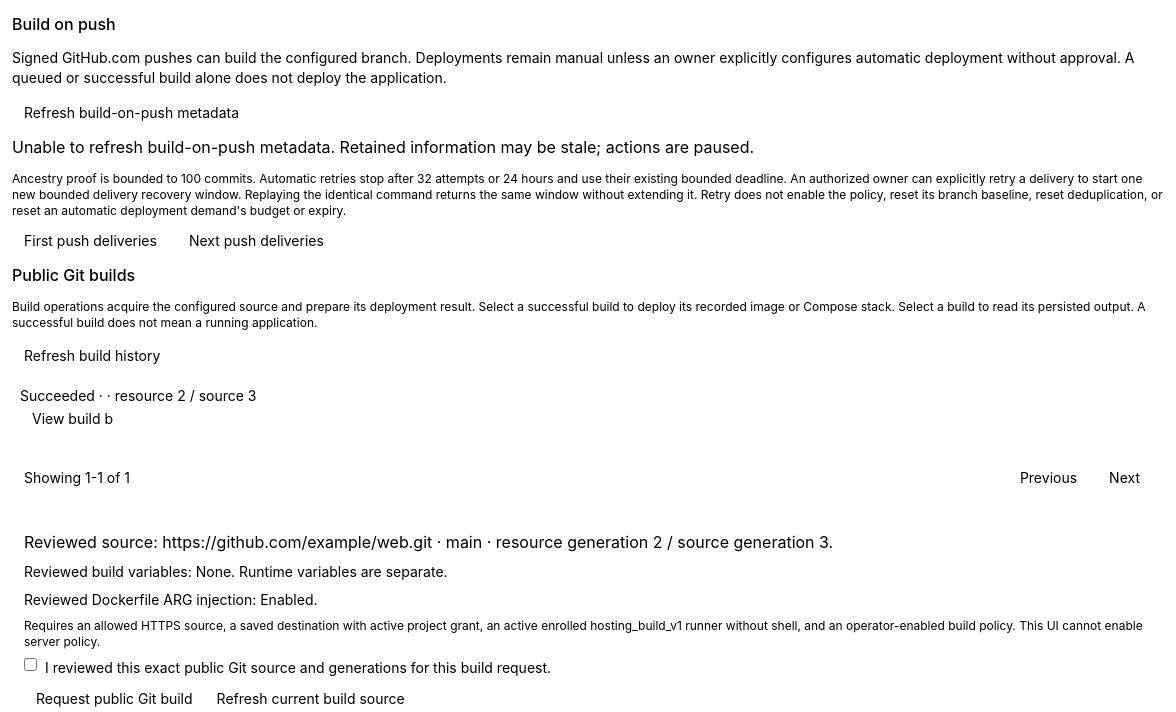
successful exact build submits only server-selected artifact admission inputs and shares operation detail
Click the button "View build b".
click(73, 419)  # box [20,409,125,429]
(page scrolled)
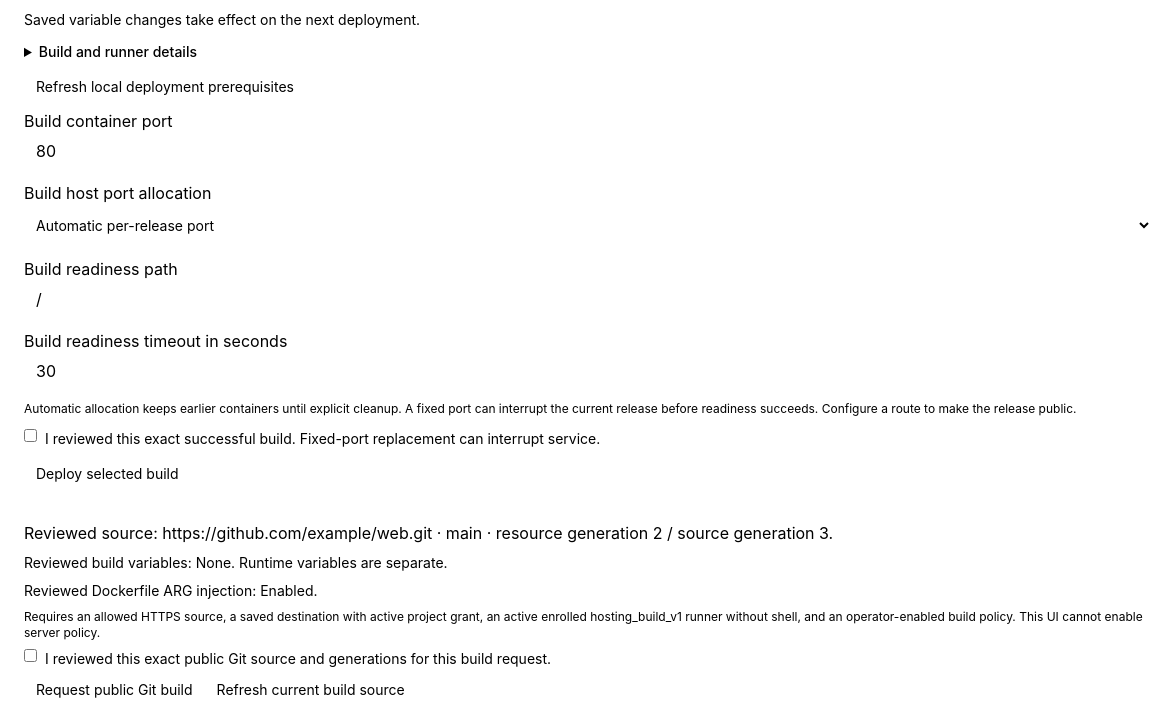
Click the checkbox labelled "I reviewed this exact successful build".
click(30, 436)  # box [24,429,37,442]
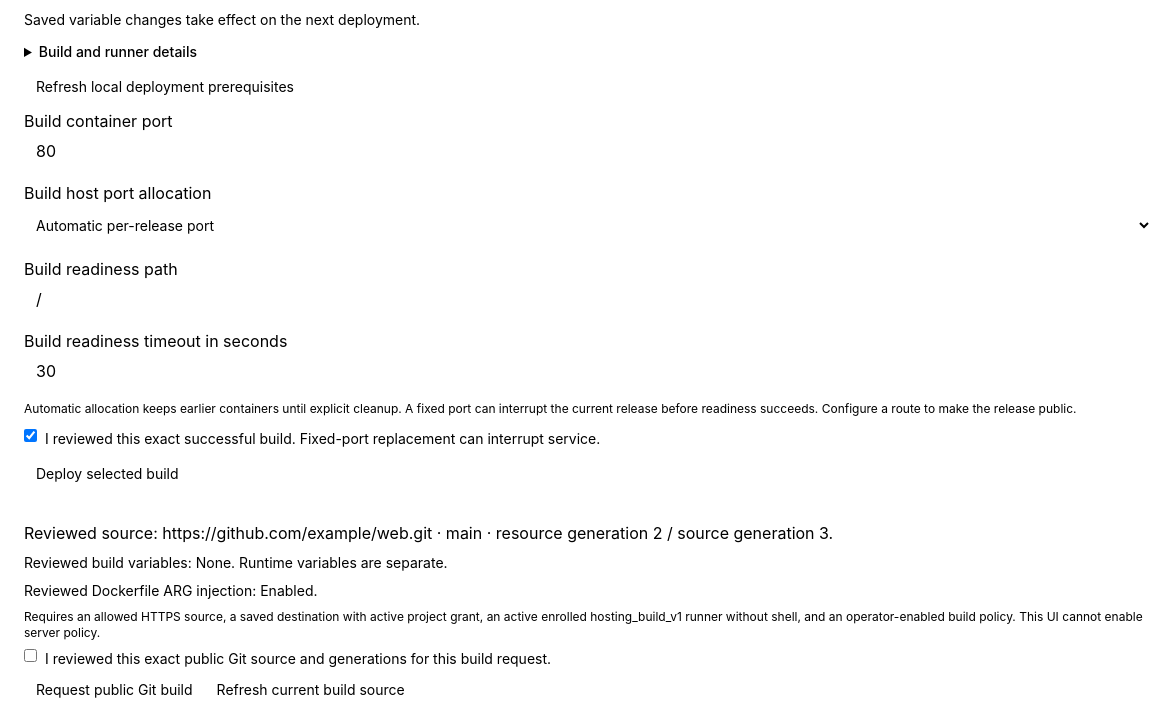
Expected: the button "Deploy selected build" is enabled, [24,464,191,484]
Submit the form named "Deploy selected build", box [24,109,1152,485]
(page scrolled)
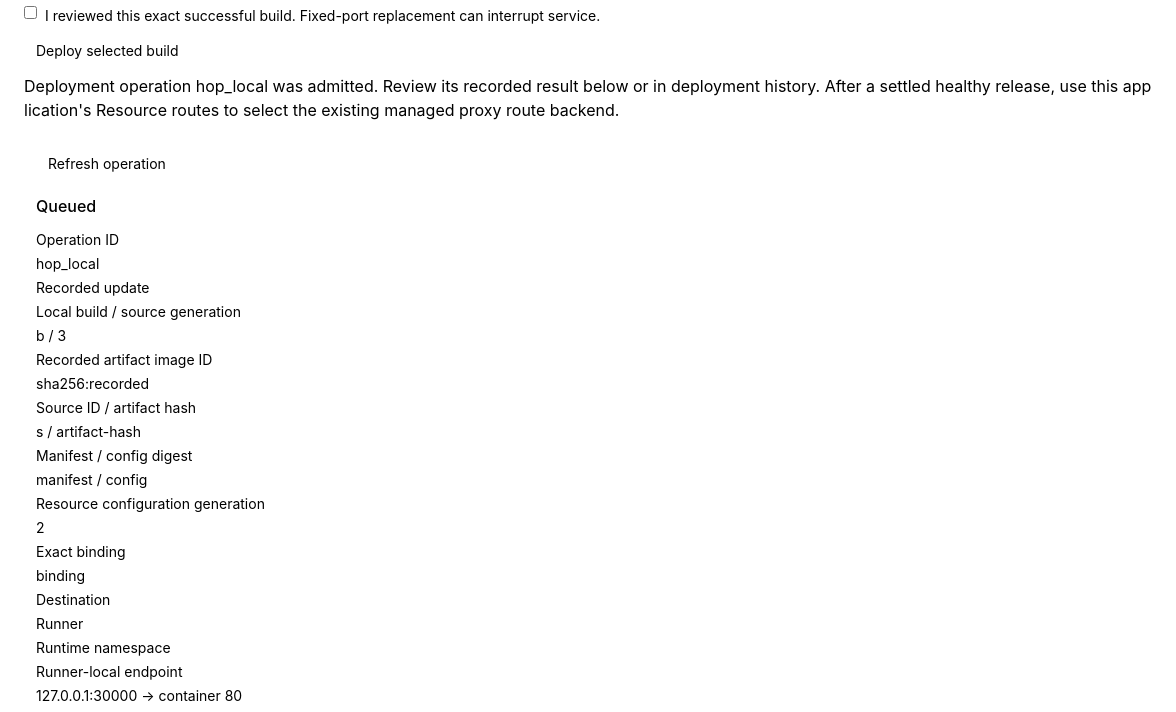
Expected: the text "Local build / source generation" is shown, [36,303,241,320]
Expected: the text "Recorded artifact image ID" is shown, [36,351,212,368]
